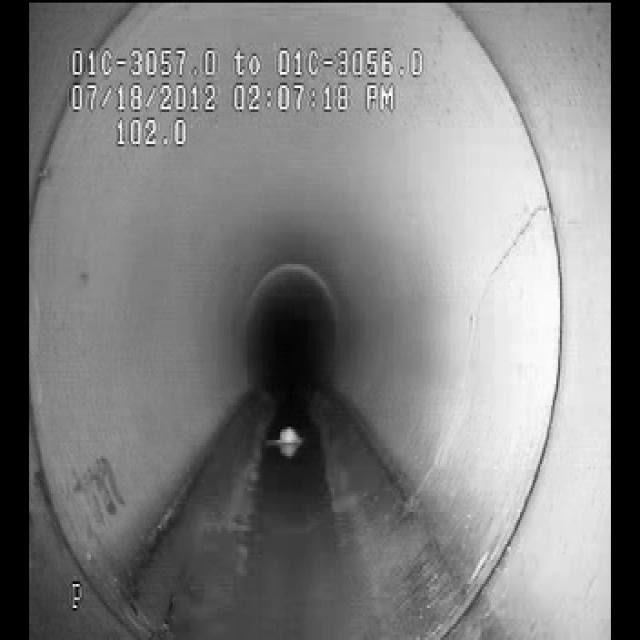Crack: (418, 204, 552, 523)
